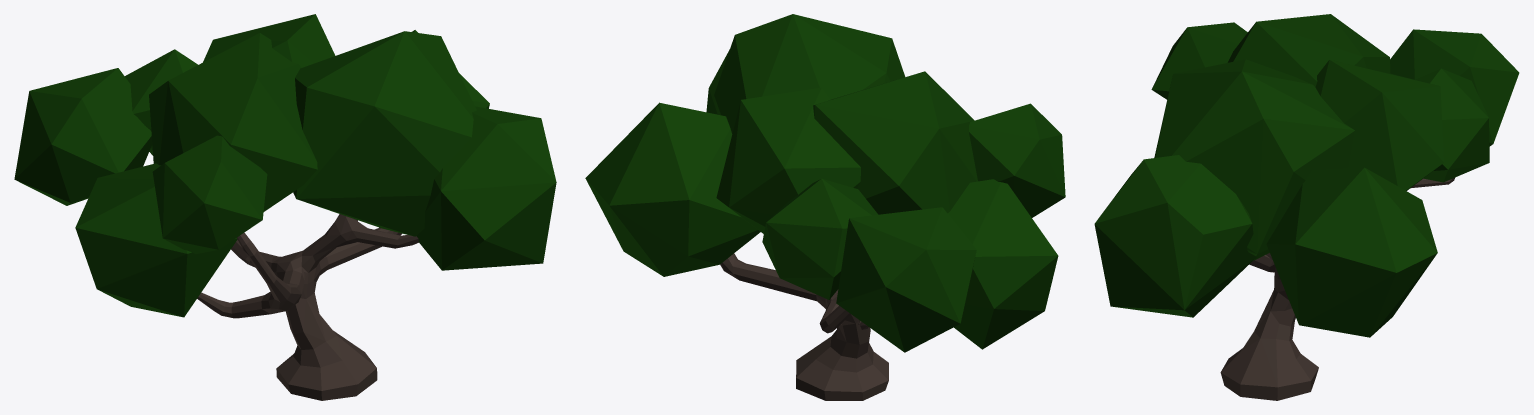
The model's file is Oak_Tree_Summer.fbx.
3 renders of one model, left to right at view 1: azimuth 30°, elevation 25°; view 2: azimuth 150°, elevation 25°; view 3: azimuth 270°, elevation 25°, orthographic.
Parts seen in each view (by area): view 1: Oak_Tree_Summer; view 2: Oak_Tree_Summer; view 3: Oak_Tree_Summer.
Part boxes in pixels (x1,y1,x2,y2): Oak_Tree_Summer: [14, 14, 556, 400]; Oak_Tree_Summer: [585, 14, 1065, 400]; Oak_Tree_Summer: [1094, 14, 1519, 400].
Size of the model in its own units: 827 by 644 by 717.
